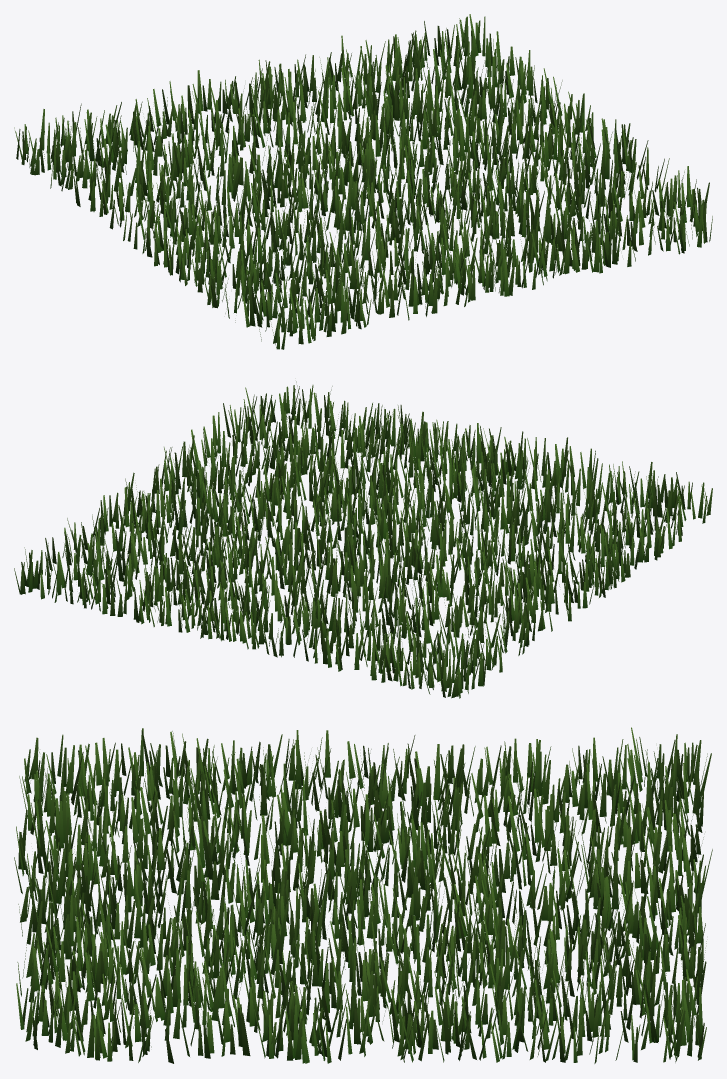
The model's file is Turf_Lawn_v1.glb.
3 views of the same model, one above another, from view 1: azimuth 30°, elevation 25°; view 2: azimuth 150°, elevation 25°; view 3: azimuth 270°, elevation 25° (orthographic). The views are drawn at different scales.
Parts seen in each view (by area): view 1: Turf_Lawn_v1; view 2: Turf_Lawn_v1; view 3: Turf_Lawn_v1.
Boxes of the visible parts, x1,y1,x2,y2 form: Turf_Lawn_v1: (14,14,712,349); Turf_Lawn_v1: (14,381,712,698); Turf_Lawn_v1: (14,727,712,1063).
Size of the model in its own units: 1.24 by 0.1 by 1.25.
